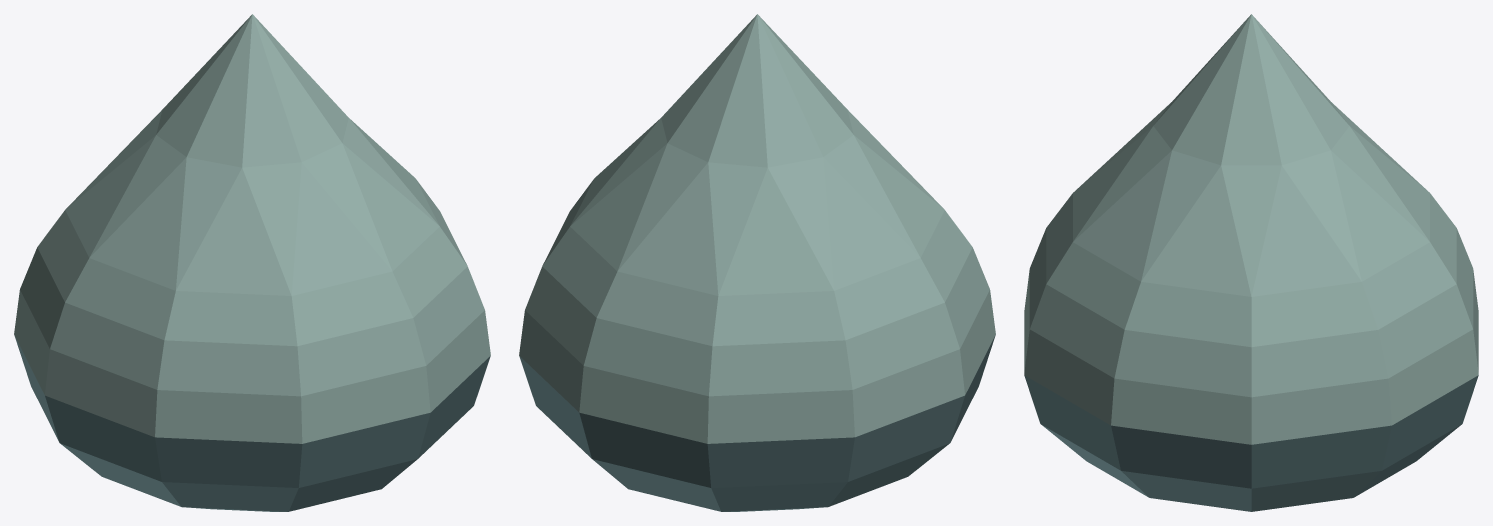
File: dewdrop-18a51f.glb
3 views of the same model, side by side, from view 1: azimuth 30°, elevation 25°; view 2: azimuth 150°, elevation 25°; view 3: azimuth 270°, elevation 25° (orthographic).
Visible parts, largest first — view 1: drop; view 2: drop; view 3: drop.
Boxes of the visible parts, x1=… form: drop: x1=14, y1=14, x2=490, y2=511; drop: x1=519, y1=14, x2=995, y2=511; drop: x1=1024, y1=14, x2=1478, y2=511.
Size of the model in its own units: 0.8 by 0.8401 by 0.7608.
